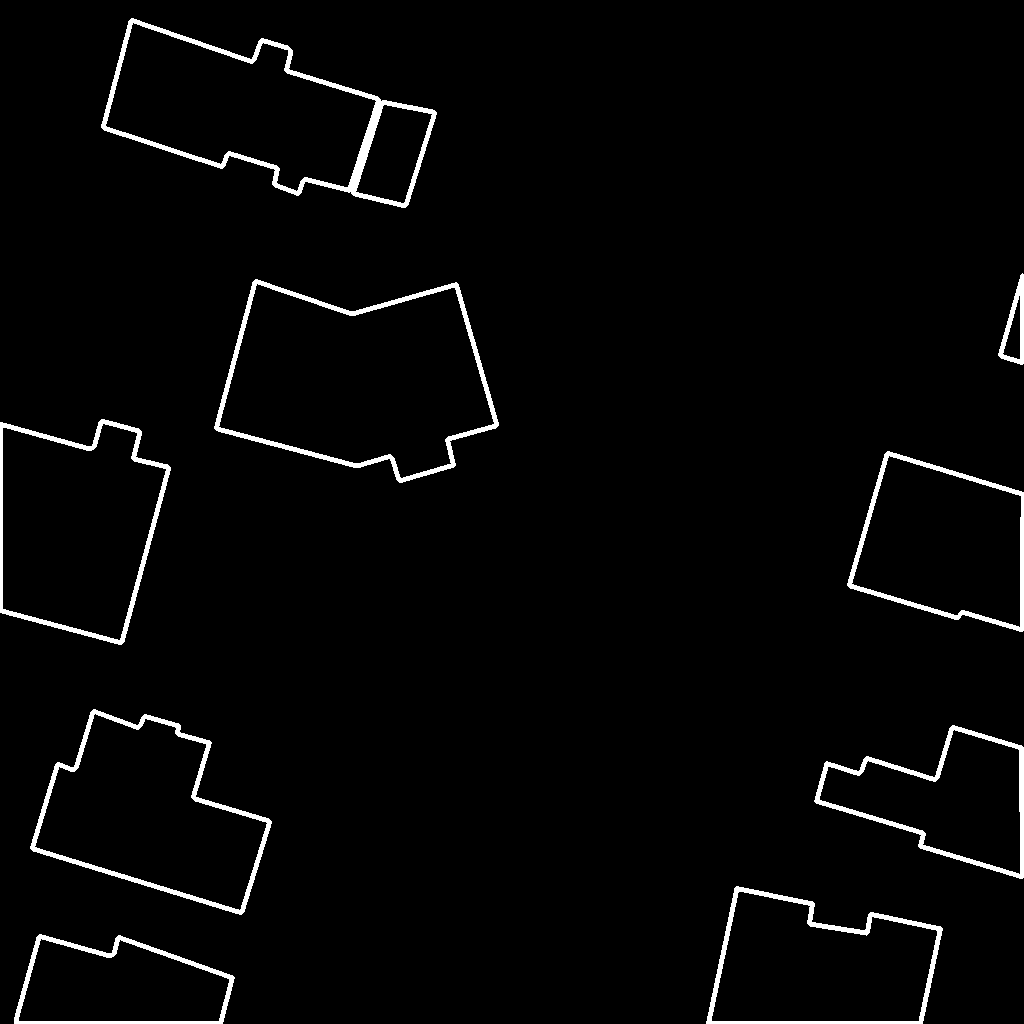building: (216, 281, 498, 482), (32, 711, 271, 914), (103, 20, 380, 195), (0, 421, 170, 644), (708, 888, 942, 1024), (816, 727, 1024, 878), (849, 453, 1024, 631), (16, 936, 234, 1024), (353, 102, 436, 207), (1000, 274, 1024, 364)
